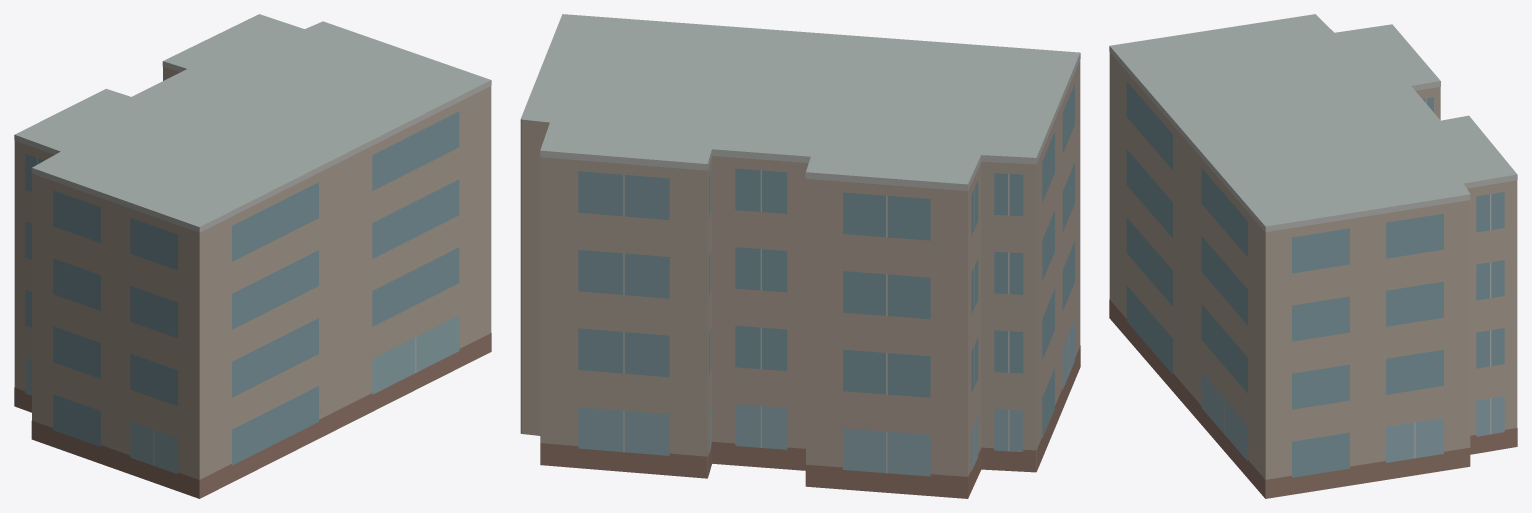
Rendered from survey-upis-32865613.glb.
3 views of the same model, side by side, from view 1: azimuth 30°, elevation 25°; view 2: azimuth 150°, elevation 25°; view 3: azimuth 270°, elevation 25° (orthographic). The views are drawn at different scales.
Visible parts, largest first — view 1: survey-upis-32865613.tmp; view 2: survey-upis-32865613.tmp; view 3: survey-upis-32865613.tmp.
Part boxes in pixels (x1,y1,x2,y2): survey-upis-32865613.tmp: (14, 14, 491, 498); survey-upis-32865613.tmp: (520, 14, 1080, 498); survey-upis-32865613.tmp: (1109, 14, 1517, 498).
Size of the model in its own units: 19.55 by 11.67 by 15.86.
